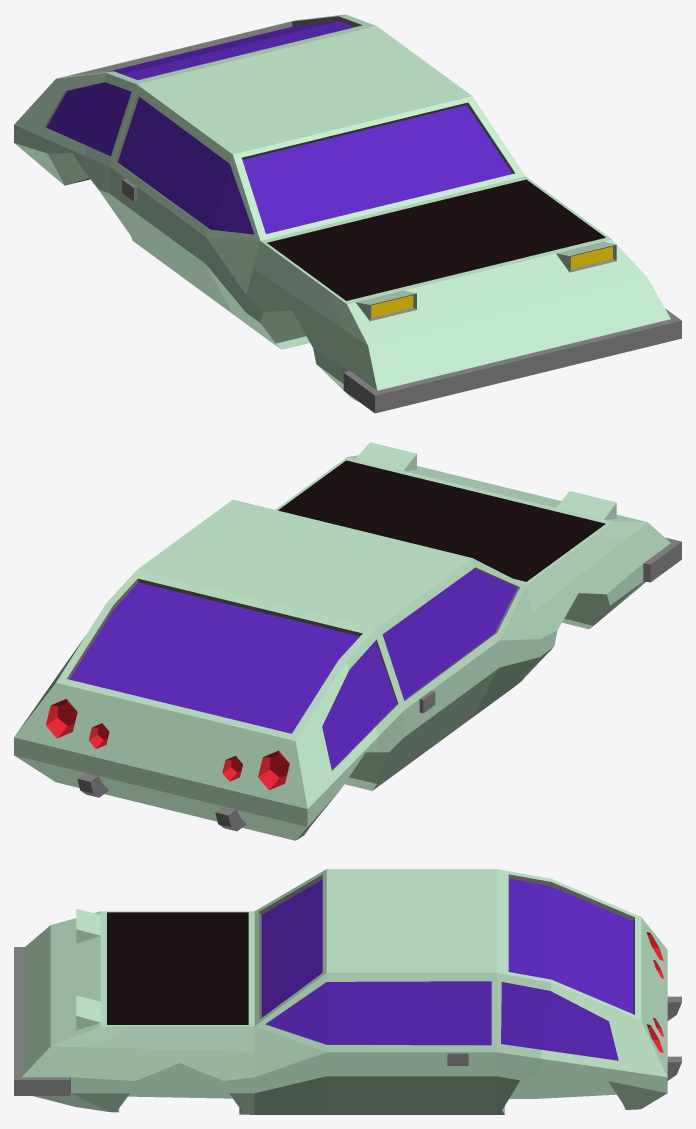
The model's file is JPNCarW.fbx.
The picture shows the model from 3 angles, top to bottom: view 1: azimuth 30°, elevation 25°; view 2: azimuth 150°, elevation 25°; view 3: azimuth 270°, elevation 25°; orthographic projection. The views are drawn at different scales.
Visible parts, largest first — view 1: Cube.003; view 2: Cube.003; view 3: Cube.003.
Part boxes in pixels (<box>): Cube.003: <box>14,14,681,413</box>; Cube.003: <box>14,442,681,840</box>; Cube.003: <box>14,869,681,1114</box>.
Size of the model in its own units: 200 by 99.33 by 424.
